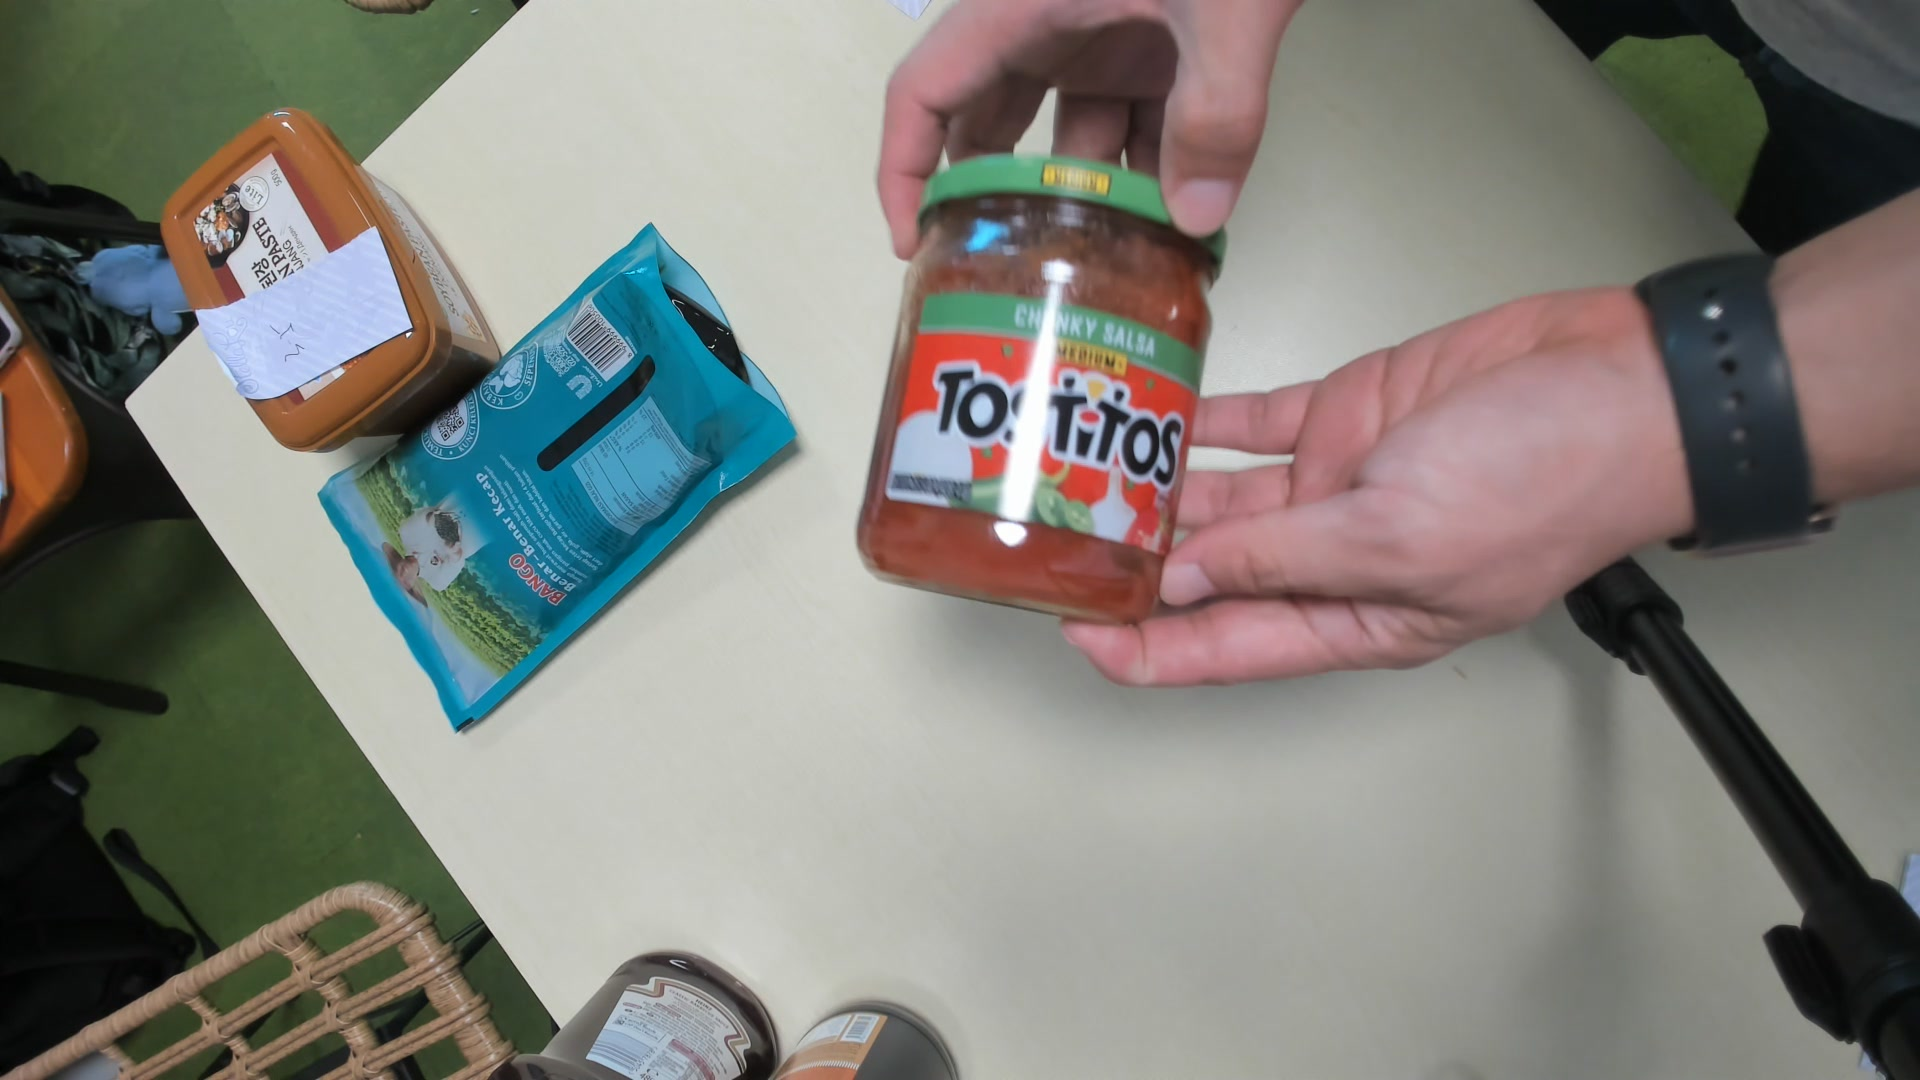OtherSauceDressing_400-499g_NonHalal_NonHealthy: (855, 156, 1232, 624)
